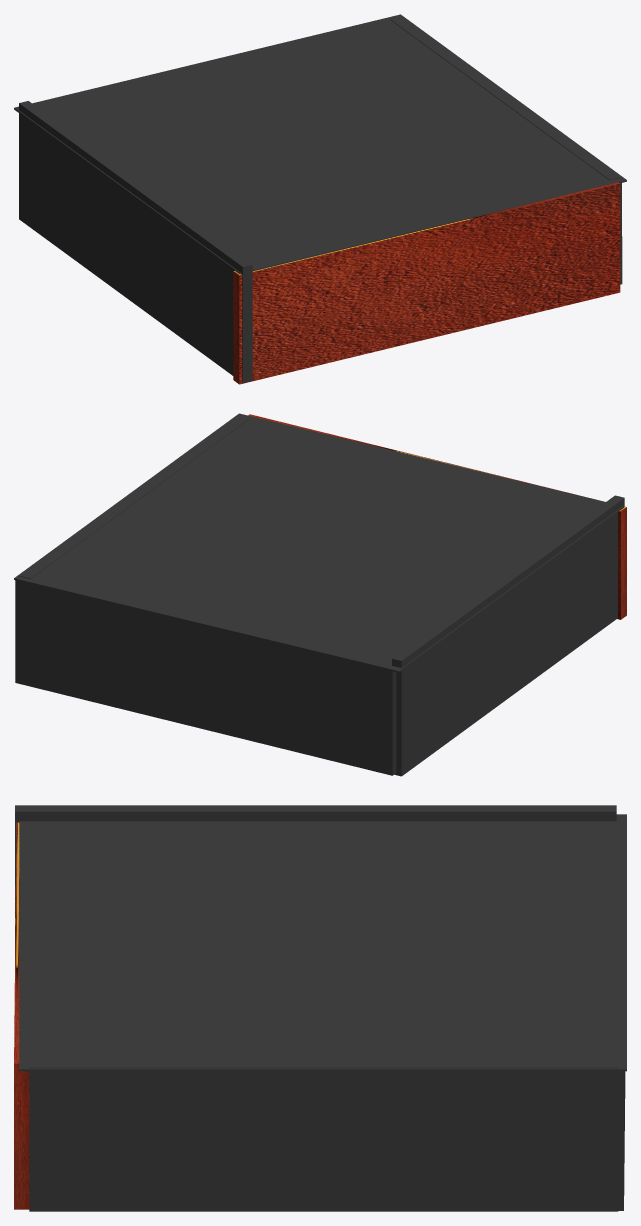
Rendered from map casino forbidden technique.fbx.
The picture shows the model from 3 angles, top to bottom: view 1: azimuth 30°, elevation 25°; view 2: azimuth 150°, elevation 25°; view 3: azimuth 270°, elevation 25°; orthographic projection. The views are drawn at different scales.
Visible parts, largest first — view 1: Cube.011; view 2: Cube.011; view 3: Cube.011.
Part boxes in pixels (x1=…): Cube.011: x1=14, y1=14, x2=626, y2=384; Cube.011: x1=14, y1=413, x2=626, y2=776; Cube.011: x1=14, y1=805, x2=626, y2=1211.
Bounding box in the file's own units: 1828 × 527 × 1859.
Materials: 7 (6 with a texture image).
